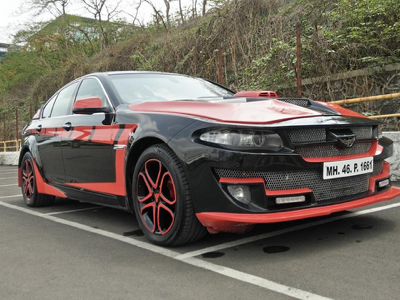licence: (324, 162, 375, 175)
